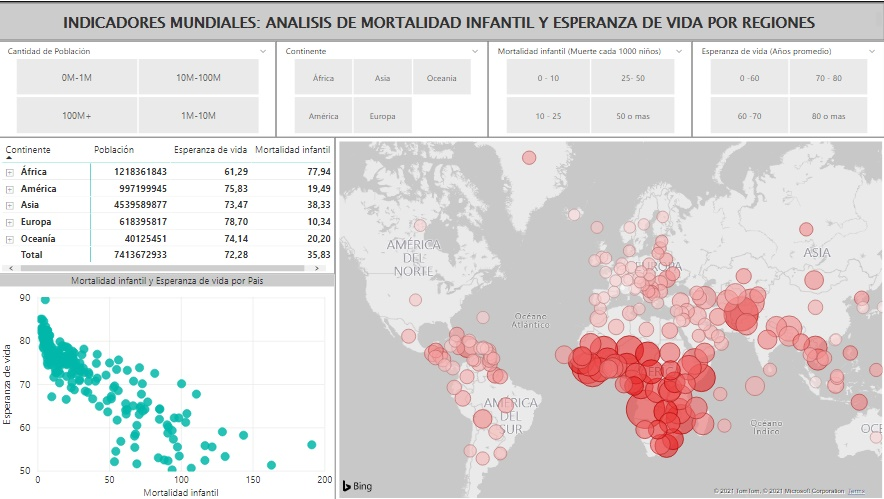

What the dashboard file says about the page in this screenshot:
{"tool":"powerbi","page":{"name":"Indicadores mundiales","canvas":[1280,720],"ordinal":1},"visuals":[{"type":"pivotTable","fields":{"Values":["Sum(Population.Población)","Avg(Esperanza de vida.Esperanza de vida)","Avg(Mortalidad infantil.Mortalidad infantil)"],"Rows":["Paises.Continente","Paises.Pais"]},"box":[0,194.8,486.3,197.7],"z":0},{"type":"slicer","fields":{"Values":["Paises.Continente"]},"box":[0,125.5,678.2,69.3],"z":2000},{"type":"map","fields":{"Category":["Paises.Pais"],"Size":["Sum(Mortalidad infantil.Mortalidad infantil)"]},"box":[486.3,194.8,793.6,525.2],"z":3000},{"type":"slicer","fields":{"Values":["Esperanza de vida.Esperanza de vida (Años promedio)"]},"box":[678.2,125.5,601.7,69.3],"z":4000},{"type":"slicer","fields":{"Values":["Mortalidad infantil.Mortalidad infantil (Muerte cada 1000 niños)"]},"box":[678.2,56.3,601.7,69.3],"z":5000},{"type":"scatterChart","fields":{"Category":["Paises.Pais"],"X":["Sum(Mortalidad infantil.Mortalidad infantil)"],"Y":["Sum(Esperanza de vida.Esperanza de vida)"]},"box":[0,392.5,486.3,327.5],"z":5001},{"type":"shape","box":[0,0,1279.8,56.3],"z":5002},{"type":"textbox","box":[0,10.1,1279.8,34.6],"z":5003},{"type":"slicer","fields":{"Values":["Población.Cantidad de Población"]},"box":[1.4,56.3,676.7,69.3],"z":5004}]}

Visuals, with their boxes in screenshot pixels (x1, y1, x2, y2), scaled from the page's 1280x720 canvas onto the 884x499 screenshot:
pivotTable - Sum(Population.Población) x Avg(Esperanza de vida.Esperanza de vida): box=[0, 135, 336, 272]
slicer - Paises.Continente: box=[0, 87, 468, 135]
map - Paises.Pais x Sum(Mortalidad infantil.Mortalidad infantil): box=[336, 135, 883, 498]
slicer - Esperanza de vida.Esperanza de vida (Años promedio): box=[468, 87, 883, 135]
slicer - Mortalidad infantil.Mortalidad infantil (Muerte cada 1000 niños): box=[468, 39, 883, 87]
scatterChart - Paises.Pais x Sum(Mortalidad infantil.Mortalidad infantil): box=[0, 272, 336, 498]
shape: box=[0, 0, 883, 39]
textbox: box=[0, 7, 883, 31]
slicer - Población.Cantidad de Población: box=[1, 39, 468, 87]
